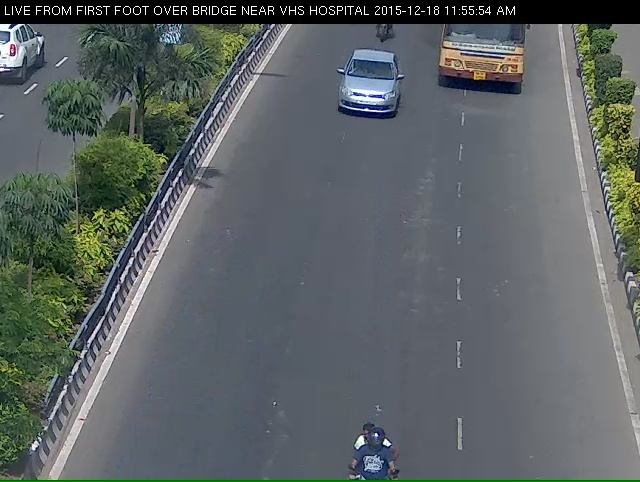Bus: (428, 21, 540, 111)
Car: (327, 62, 398, 136)
Person: (362, 19, 402, 54)
